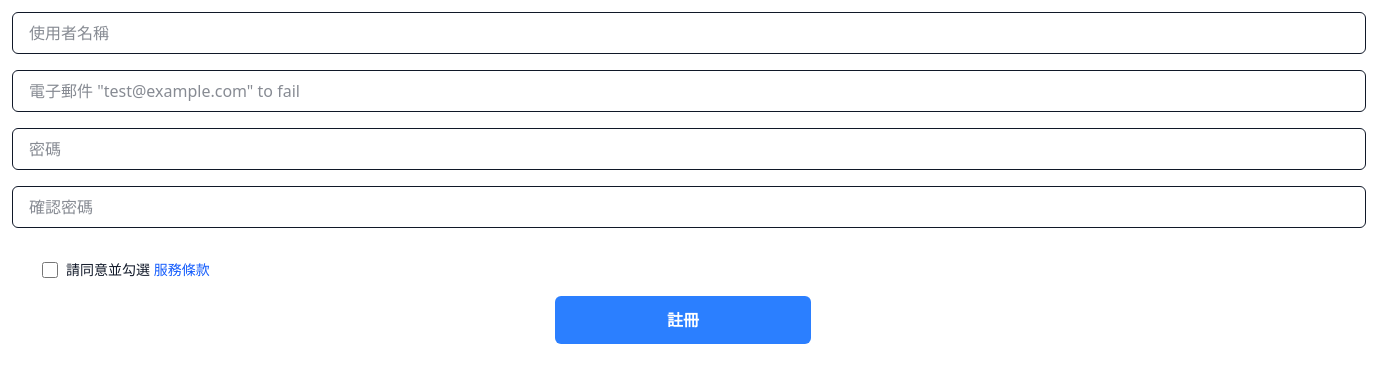
Test case: RegisterForm 整合測試 › 當密碼與確認密碼不一致時，應顯示錯誤訊息
The width and height of the screenshot is (1378, 381).
Type "Password123" into the field labelled "密碼" at (689, 149), box [12,128,1366,170]
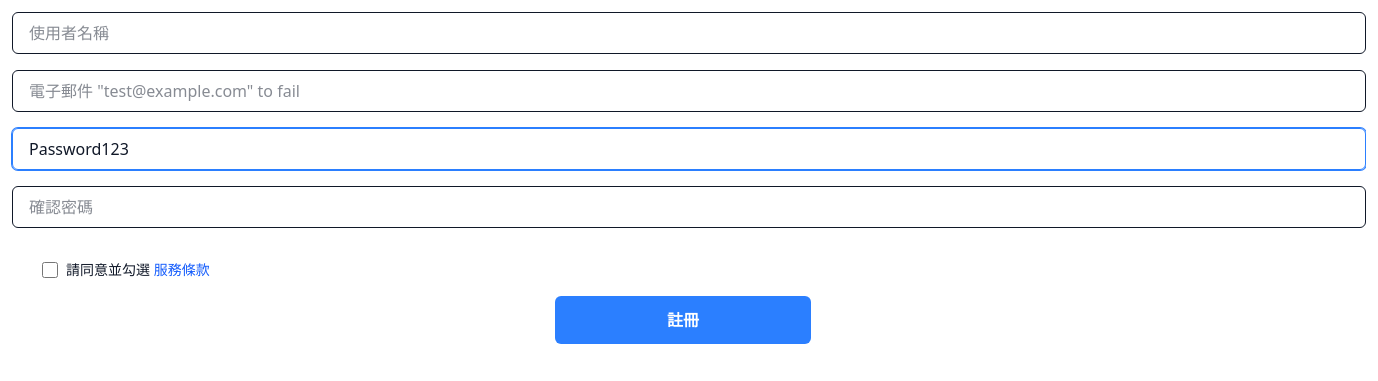
Type "Password456" into the password field labelled "確認密碼" at (689, 207), box [12,186,1366,228]
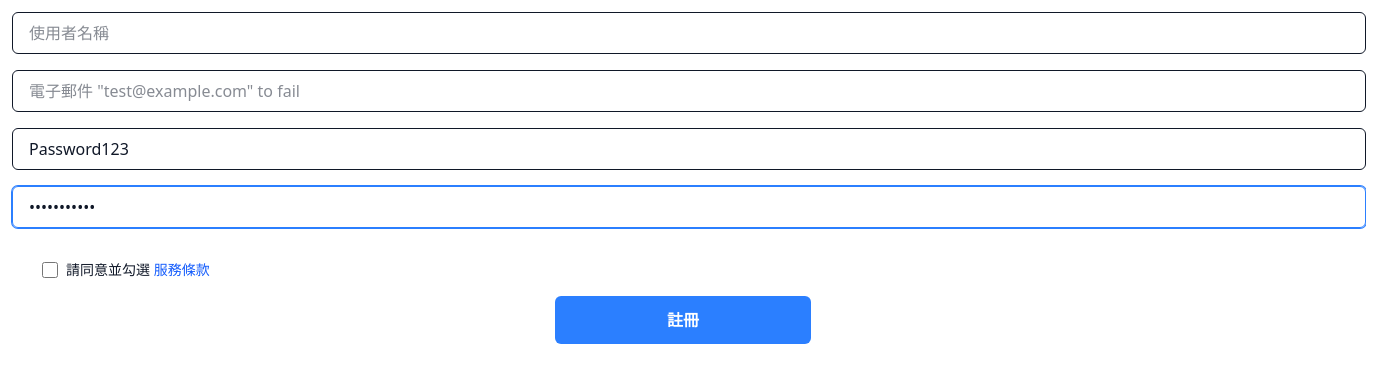
Click the element showing "請同意並勾選 服務條款 註冊" at (683, 178), box [0,12,1366,344]
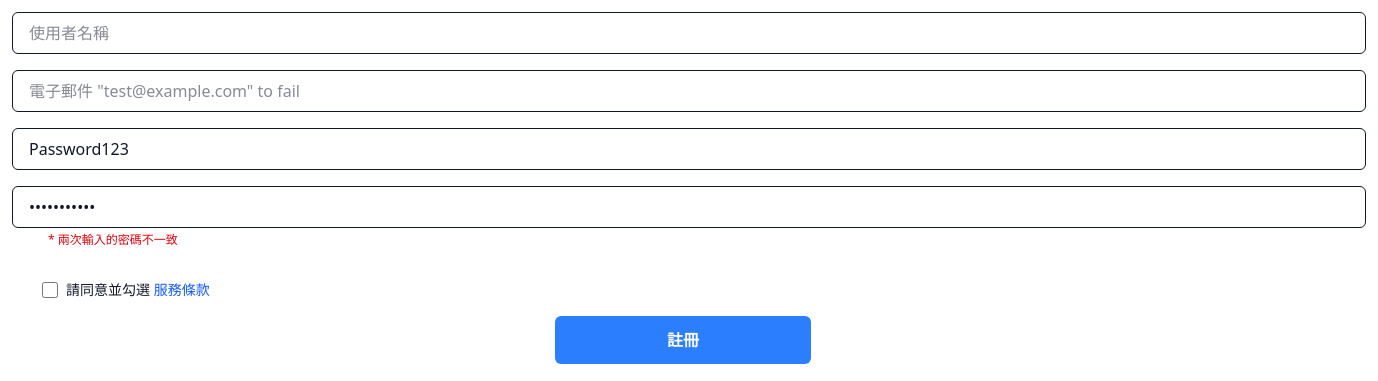
Expected: the text "* 兩次輸入的密碼不一致" is shown, [48,232,178,248]
